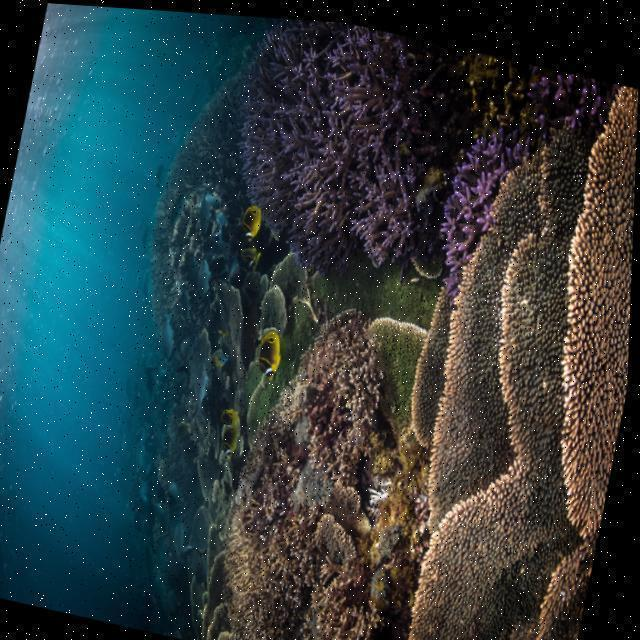Healthy Coral: (364, 41, 640, 640), (222, 287, 446, 640), (239, 13, 468, 262), (420, 94, 536, 310)
